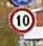limite 10: (7, 7, 35, 34)
